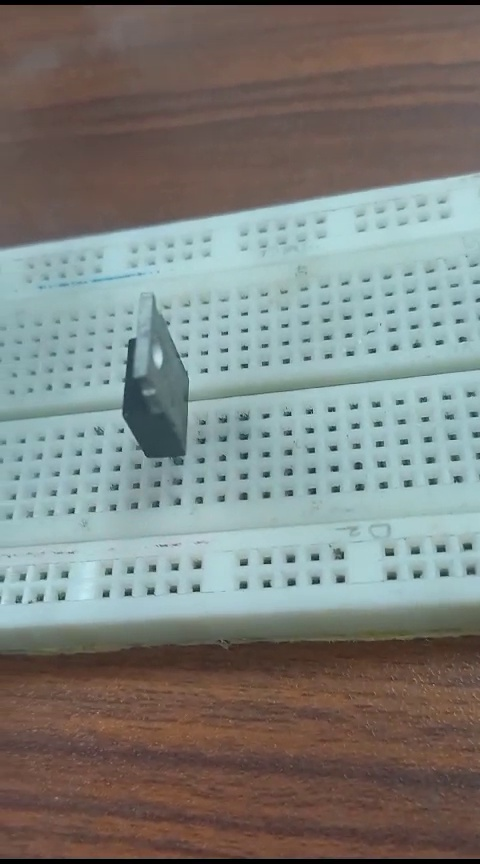voltage regulator: (93, 284, 198, 473)
